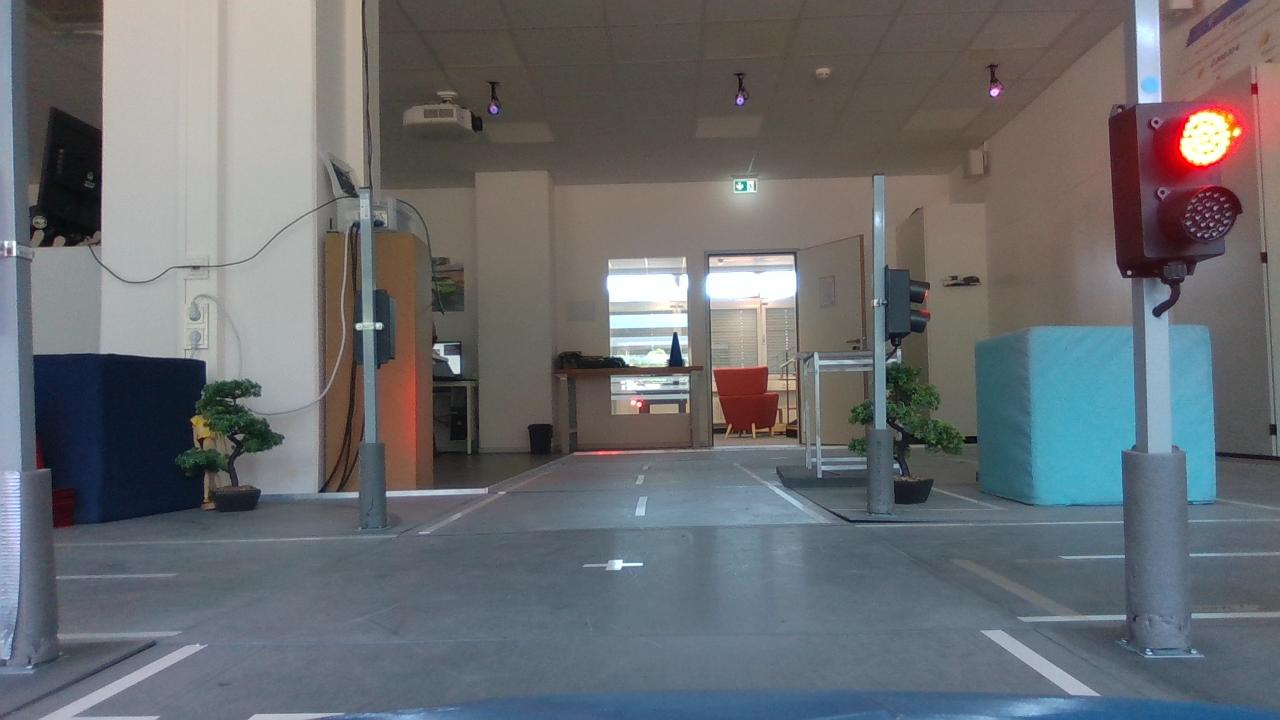traffic_light_red: (1095, 87, 1252, 293)
